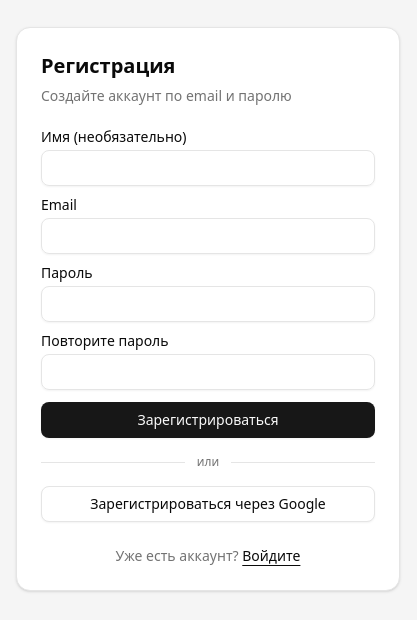
Test: RegisterPage › rejects a short password
This screenshot has width=417, height=620.
Type "Тест" into the field labelled "Имя (необязательно)". click: (208, 168)
box: 41,150 -> 375,186
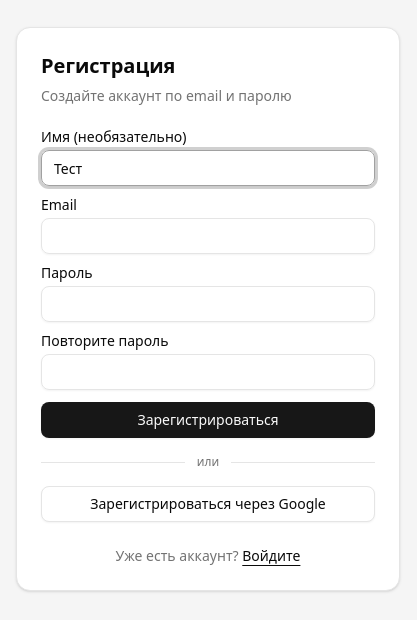
Type "new@example.com" into the field labelled "Email". click: (208, 236)
box: 41,218 -> 375,254
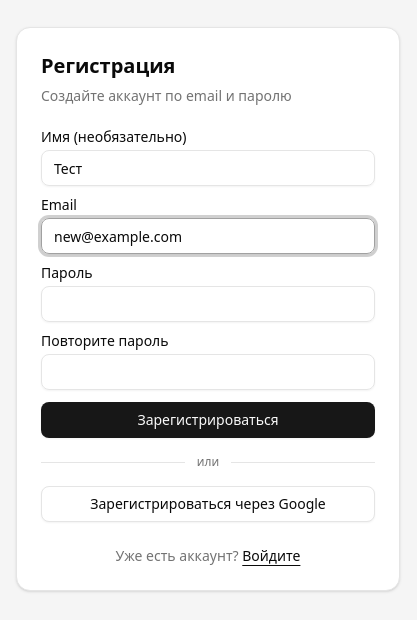
Type "short" into the password field labelled "Пароль". click: (208, 304)
box: 41,286 -> 375,322
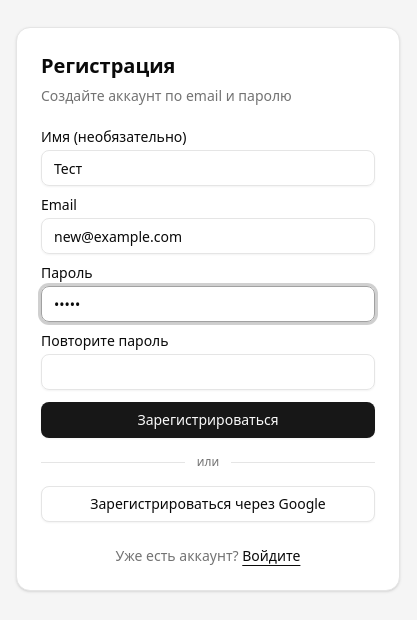
Type "short" into the password field labelled "Повторите пароль". click: (208, 372)
box: 41,354 -> 375,390
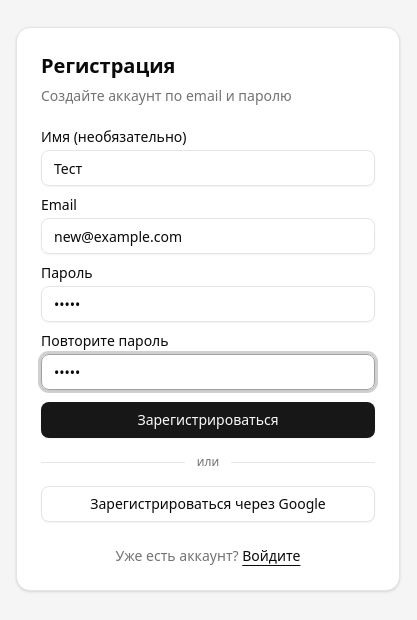
Click the button "Зарегистрироваться". click: (208, 420)
box: 41,402 -> 375,438
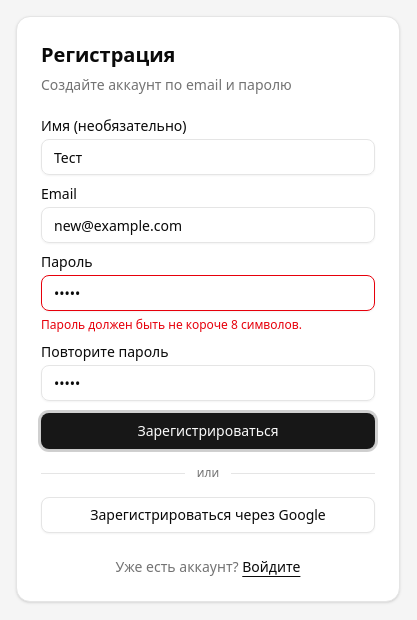
Expected: the text "Пароль должен быть не короче 8 символов." is shown, 41,316 -> 302,333
